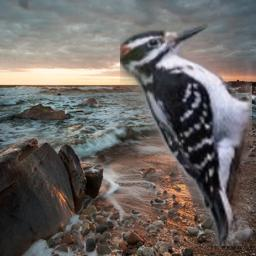Woodpecker: (120, 23, 252, 246)
